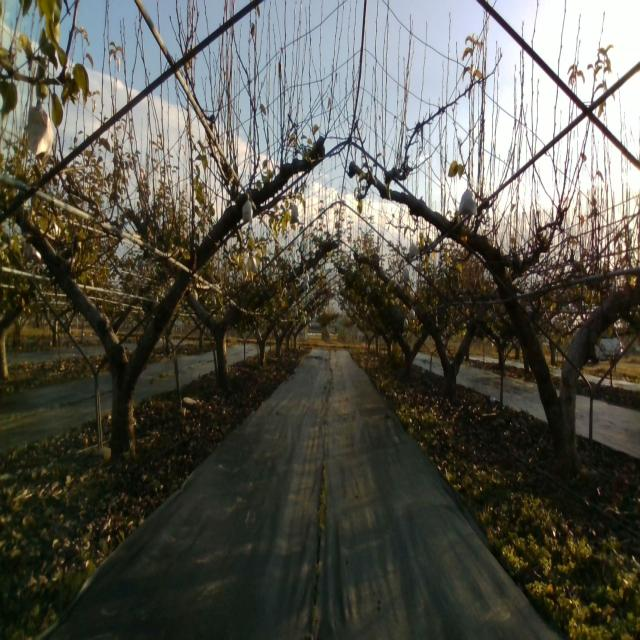pearbags: (26, 100, 54, 168), (457, 187, 478, 217), (242, 192, 253, 225), (408, 238, 419, 260), (290, 202, 300, 225)
